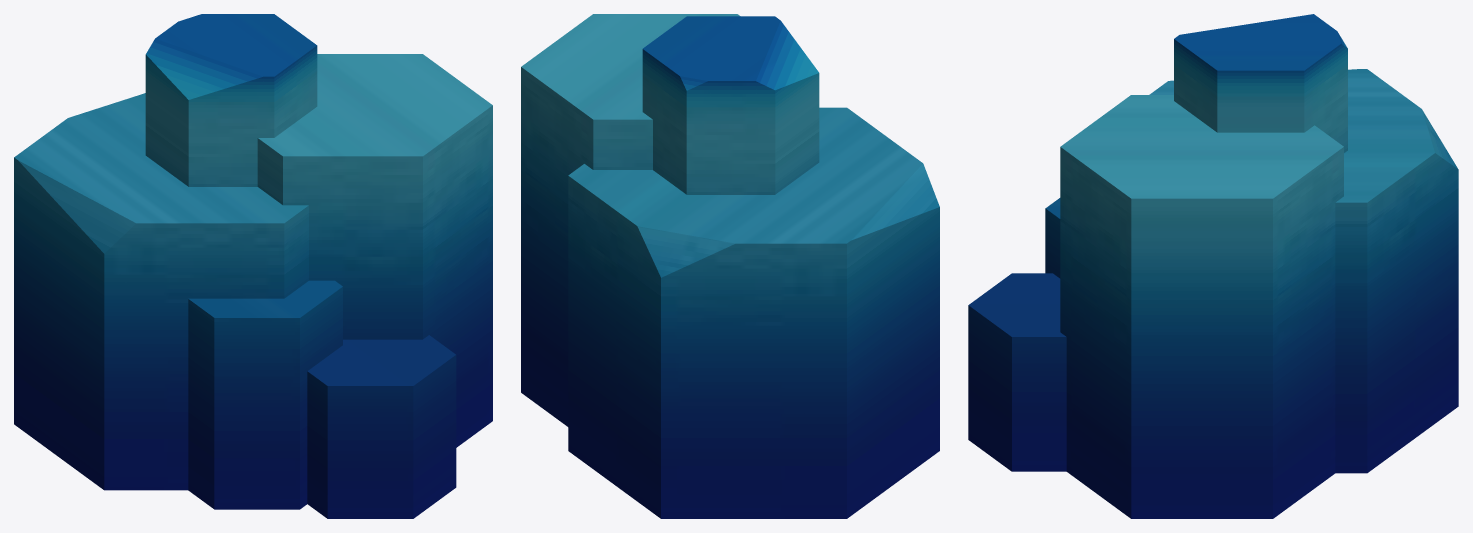
File: rocaesmeralda_05.fbx
3 renders of one model, left to right at view 1: azimuth 30°, elevation 25°; view 2: azimuth 150°, elevation 25°; view 3: azimuth 270°, elevation 25°, orthographic. The views are drawn at different scales.
Parts seen in each view (by area): view 1: cueva09; view 2: cueva09; view 3: cueva09.
Part boxes in pixels (x1=…): cueva09: x1=14, y1=14, x2=492, y2=518; cueva09: x1=521, y1=14, x2=939, y2=518; cueva09: x1=968, y1=14, x2=1458, y2=518.
Bounding box in the file's own units: 488 × 485 × 564.
1 material, 1 textured.
